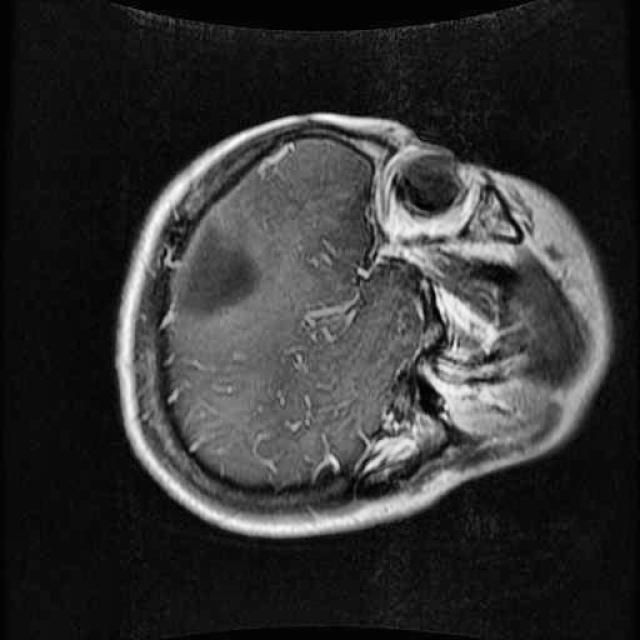Tumor: (156, 205, 286, 337)
